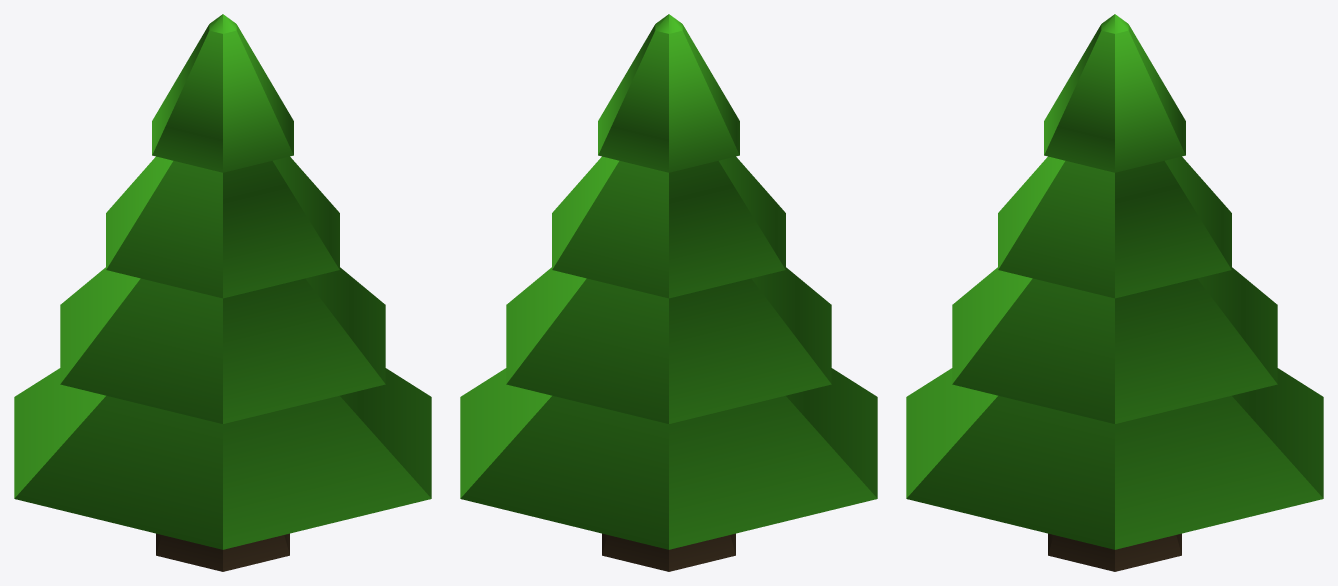
The model's file is abeto.obj.
The picture shows the model from 3 angles, left to right: view 1: azimuth 30°, elevation 25°; view 2: azimuth 150°, elevation 25°; view 3: azimuth 270°, elevation 25°; orthographic projection.
Visible parts, largest first — view 1: Spindle001; view 2: Spindle001; view 3: Spindle001.
Boxes of the visible parts, x1,y1,x2,y2 form: Spindle001: (14, 14, 431, 571); Spindle001: (460, 14, 877, 571); Spindle001: (906, 14, 1323, 571).
Bounding box in the file's own units: 7.87 × 9.46 × 6.82.
